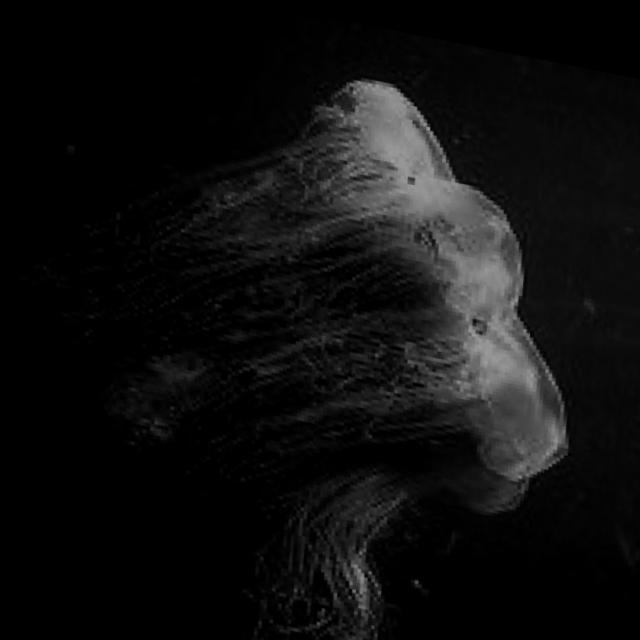Box-jellyfish: (0, 4, 626, 640)
